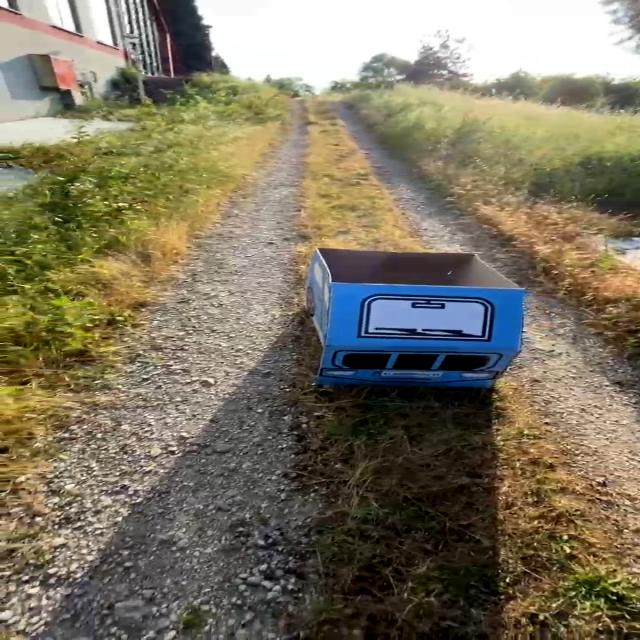blue_car: (249, 226, 565, 425)
